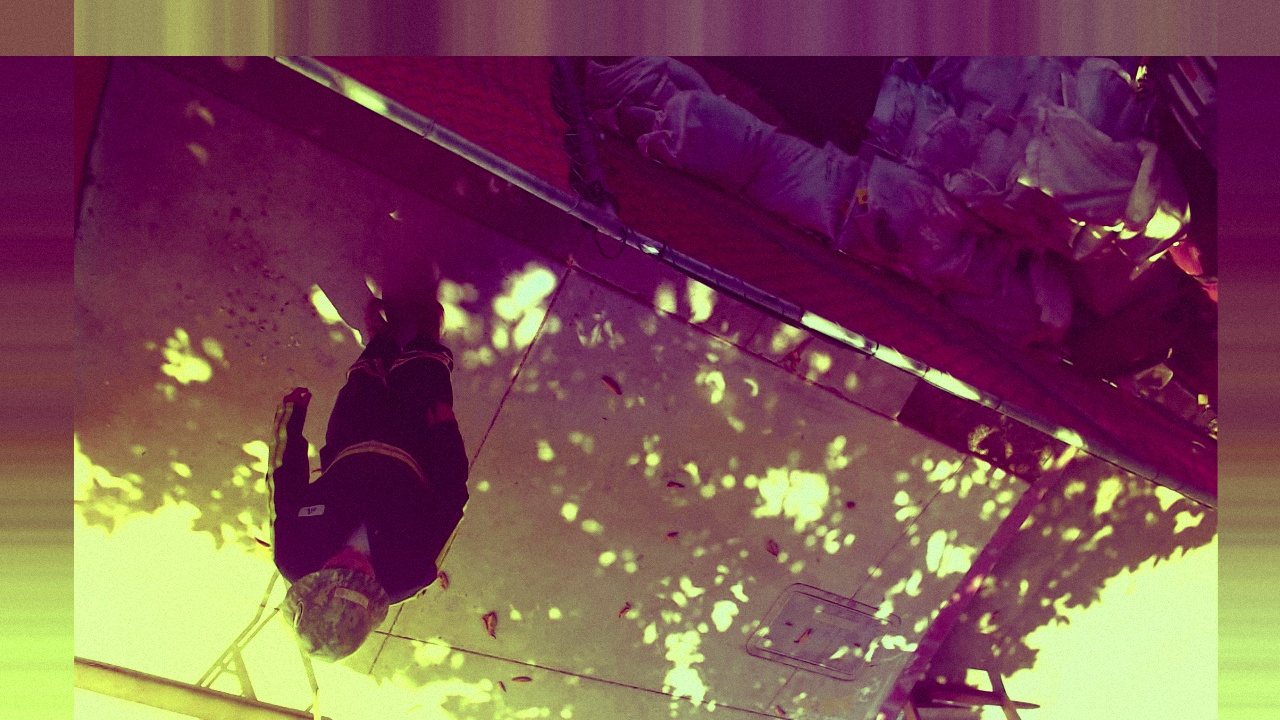hardhat: (279, 564, 389, 664)
person: (267, 241, 469, 664)
